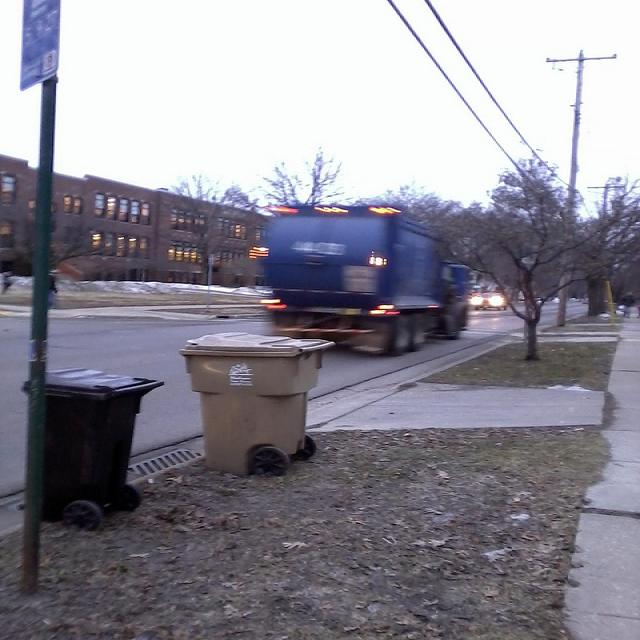Vehicle: (253, 214, 478, 350), (472, 293, 508, 310)
